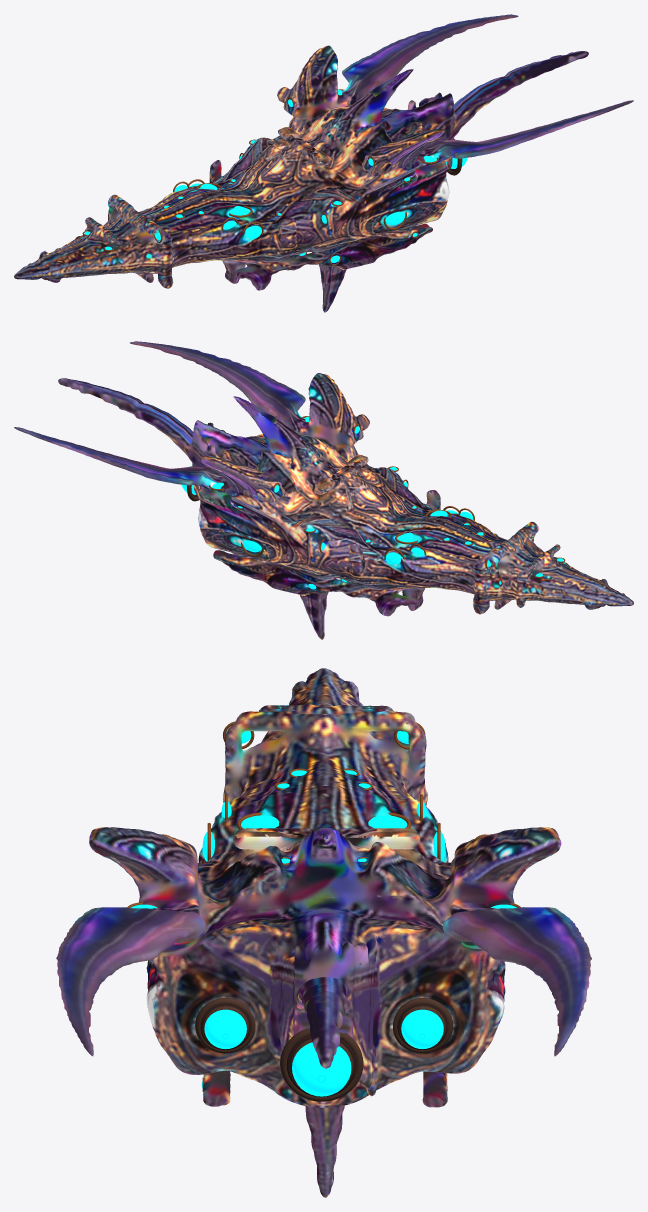
The model's file is model_v35_web.glb.
The picture shows the model from 3 angles, top to bottom: view 1: azimuth 30°, elevation 25°; view 2: azimuth 150°, elevation 25°; view 3: azimuth 270°, elevation 25°; orthographic projection. The views are drawn at different scales.
Parts seen in each view (by area): view 1: EXT_Hull, EXT_Glow_Cyan, EXT_Ring_Bronze; view 2: EXT_Hull, EXT_Glow_Cyan, EXT_Ring_Bronze; view 3: EXT_Hull, EXT_Ring_Bronze, EXT_Glow_Engine, EXT_Glow_Cyan, EXT_Ring_Dark.
Boxes of the visible parts, x1,y1,x2,y2 form: EXT_Hull: (14, 14, 633, 312); EXT_Glow_Cyan: (84, 89, 435, 262); EXT_Ring_Bronze: (82, 89, 462, 265); EXT_Hull: (14, 341, 633, 639); EXT_Glow_Cyan: (212, 416, 563, 589); EXT_Ring_Bronze: (187, 416, 565, 591); EXT_Hull: (56, 668, 591, 1197); EXT_Ring_Bronze: (127, 721, 520, 1101); EXT_Glow_Engine: (204, 1009, 443, 1096); EXT_Glow_Cyan: (131, 731, 516, 1088); EXT_Ring_Dark: (200, 1004, 447, 1097).
Bounding box in the file's own units: 95.35 × 35.17 × 38.49.
Materials: 4 (1 with a texture image).
